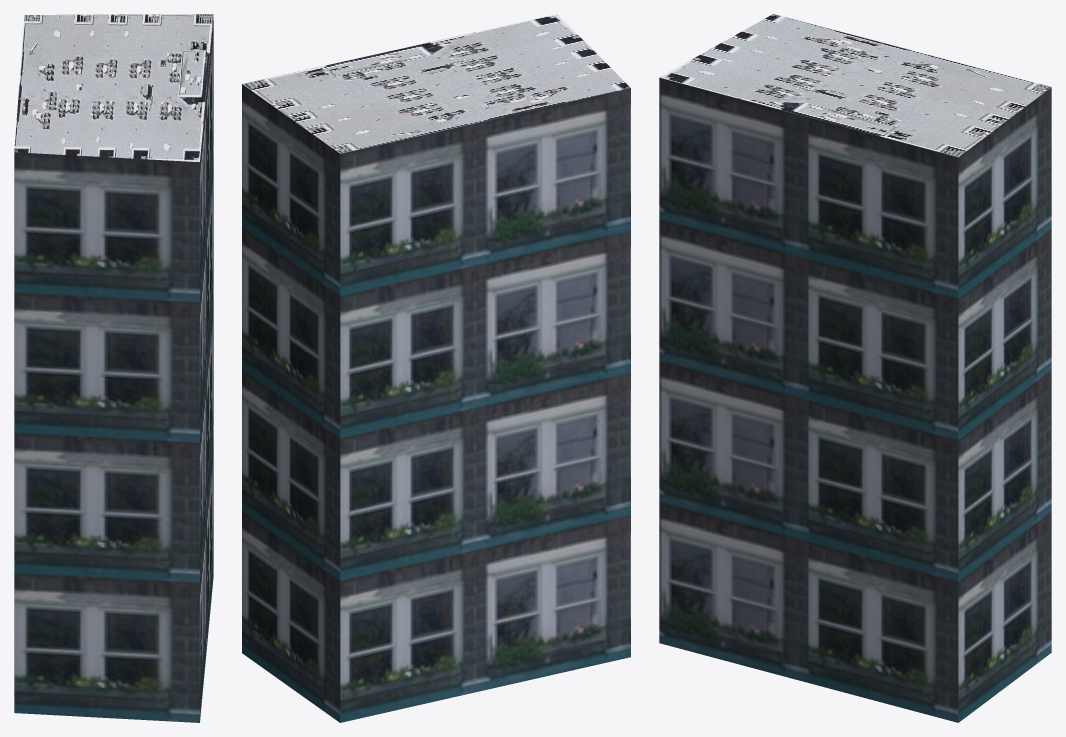
Rendered from ResTex__353.fbx.
3 renders of one model, left to right at view 1: azimuth 30°, elevation 25°; view 2: azimuth 150°, elevation 25°; view 3: azimuth 270°, elevation 25°, orthographic.
Visible parts, largest first — view 1: CityEngineMaterial_11_m, CityEngineMaterial_4_m; view 2: CityEngineMaterial_11_m, CityEngineMaterial_4_m; view 3: CityEngineMaterial_11_m, CityEngineMaterial_4_m.
Part boxes in pixels (<box>): CityEngineMaterial_11_m: <box>14,17,213,722</box>; CityEngineMaterial_4_m: <box>14,14,213,162</box>; CityEngineMaterial_11_m: <box>242,84,630,722</box>; CityEngineMaterial_4_m: <box>242,14,630,153</box>; CityEngineMaterial_11_m: <box>659,77,1051,722</box>; CityEngineMaterial_4_m: <box>659,14,1051,157</box>.
Size of the model in its own units: 6.52 by 12 by 7.55.
Materials: 2 (2 with a texture image).
